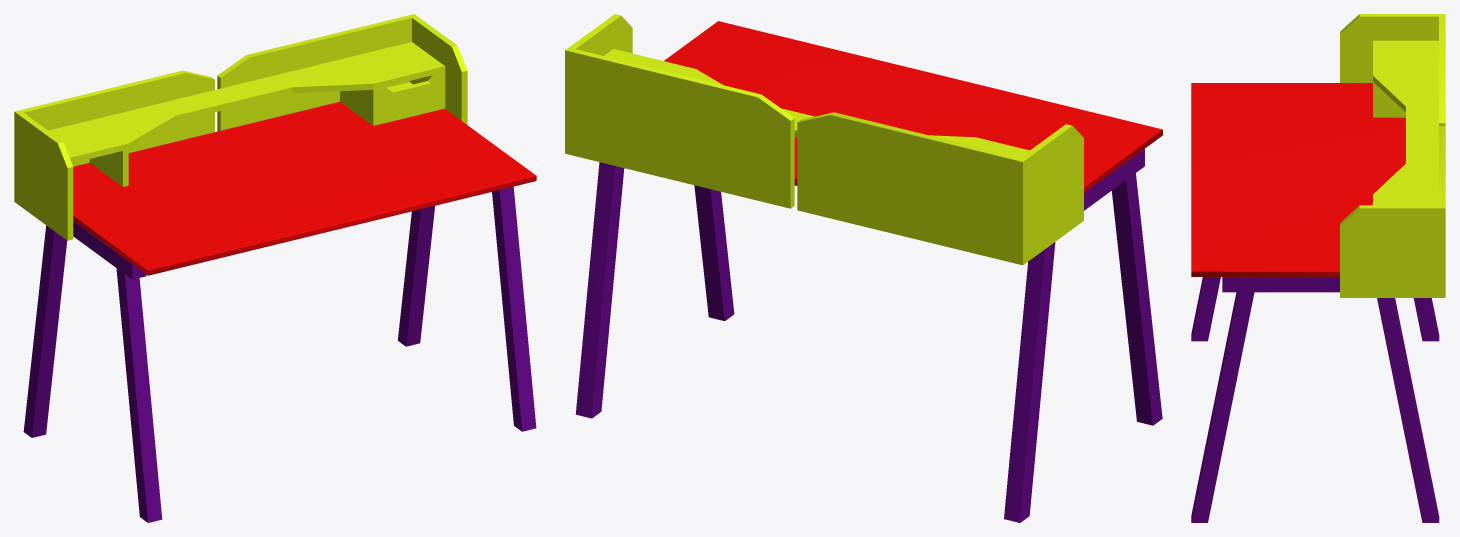
File: uploads_files_3530899_Study+Desk.fbx
The picture shows the model from 3 angles, left to right: view 1: azimuth 30°, elevation 25°; view 2: azimuth 150°, elevation 25°; view 3: azimuth 270°, elevation 25°; orthographic projection. The views are drawn at different scales.
Parts seen in each view (by area): view 1: Desk; view 2: Desk; view 3: Desk.
Boxes of the visible parts, x1,y1,x2,y2 form: Desk: [14, 14, 536, 522]; Desk: [565, 14, 1162, 522]; Desk: [1191, 14, 1445, 522].
Bounding box in the file's own units: 7.13 × 5.44 × 3.95.
